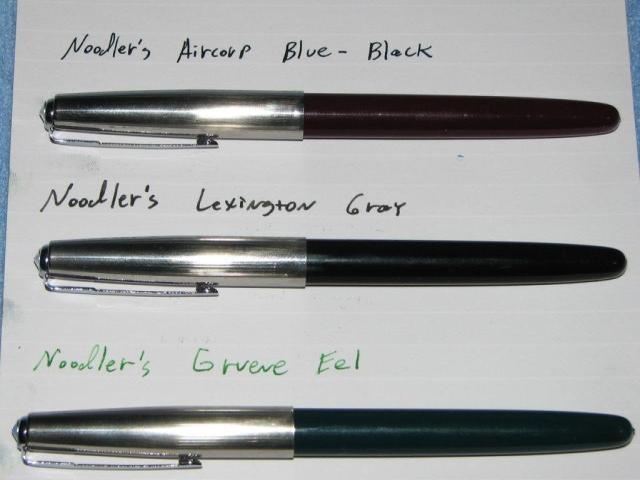PEN: (25, 72, 640, 176), (26, 226, 640, 317), (14, 388, 621, 480)
